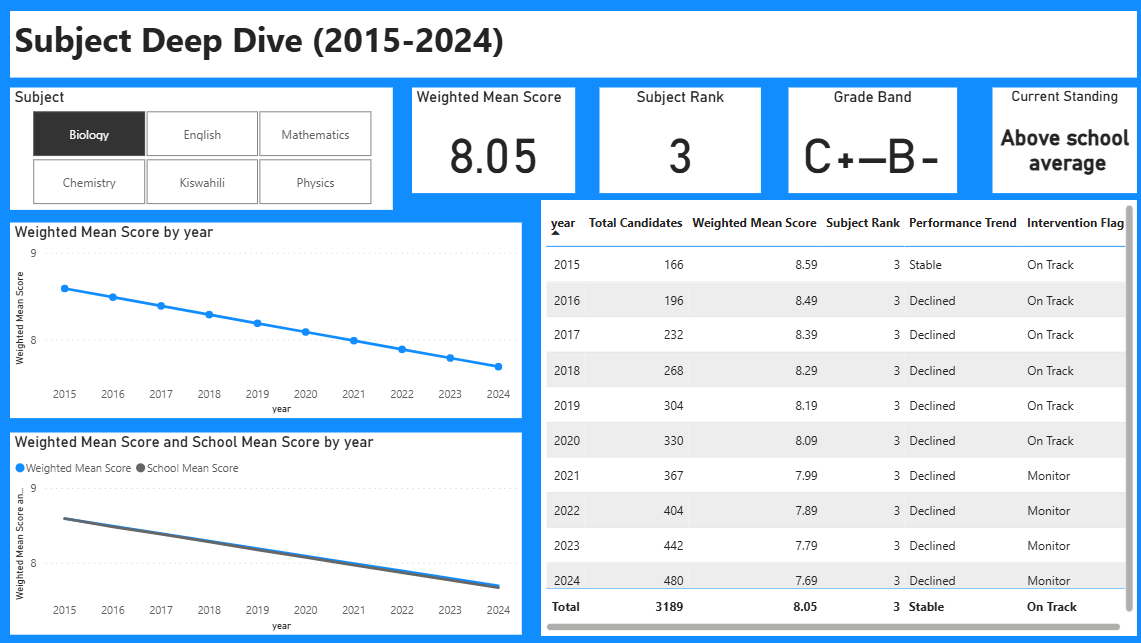

What the dashboard file says about the page in this screenshot:
{"tool":"powerbi","page":{"name":"Subject Deep Dive","canvas":[1280,720],"ordinal":3},"visuals":[{"type":"slicer","title":"Subject","fields":{"Values":["dim_subject.subject_name"]},"box":[13.2,98.3,425.2,136.1],"z":0},{"type":"card","title":"Weighted Mean Score","fields":{"Values":["dim_gender.Weighted Mean Score"]},"box":[459.2,98.3,181.4,117.2],"z":1000},{"type":"card","title":"Subject Rank","fields":{"Values":["dim_gender.Subject Rank"]},"box":[669,98.3,179.5,117.2],"z":2000},{"type":"card","title":"Grade Band","fields":{"Values":["dim_gender.Grade Band"]},"box":[878.7,98.3,187.1,117.2],"z":3000},{"type":"lineChart","fields":{"Y":["dim_gender.Weighted Mean Score"],"Category":["dim_year.year"]},"box":[13.2,247.6,568.8,217.3],"z":4000},{"type":"lineChart","fields":{"Category":["dim_year.year"],"Y":["dim_gender.Weighted Mean Score","dim_gender.School Mean Score"]},"box":[13.2,481.9,568.8,224.9],"z":5000},{"type":"tableEx","fields":{"Values":["dim_year.year","dim_gender.Total Candidates","dim_gender.Weighted Mean Score","dim_gender.Subject Rank","dim_gender.Performance Trend","dim_date.Intervention Flag"]},"box":[602.8,223,663.3,483.8],"z":6000},{"type":"card","title":"Current Standing","fields":{"Values":["dim_gender.Subject vs School Insight"]},"box":[1105.5,98.3,160.6,117.2],"z":7000},{"type":"textbox","box":[13.2,13.2,1252.9,73.7],"z":8000}]}

Visuals, with their boxes in screenshot pixels (x1, y1, x2, y2), scaled from the page's 1280x720 canvas onto the 1141x643 screenshot:
"Subject" slicer: Rect(12, 88, 391, 209)
"Weighted Mean Score" card: Rect(409, 88, 571, 192)
"Subject Rank" card: Rect(596, 88, 756, 192)
"Grade Band" card: Rect(783, 88, 950, 192)
lineChart - dim_gender.Weighted Mean Score x dim_year.year: Rect(12, 221, 519, 415)
lineChart - dim_year.year x dim_gender.Weighted Mean Score: Rect(12, 430, 519, 631)
tableEx - dim_year.year x dim_gender.Total Candidates: Rect(537, 199, 1129, 631)
"Current Standing" card: Rect(985, 88, 1129, 192)
textbox: Rect(12, 12, 1129, 78)
